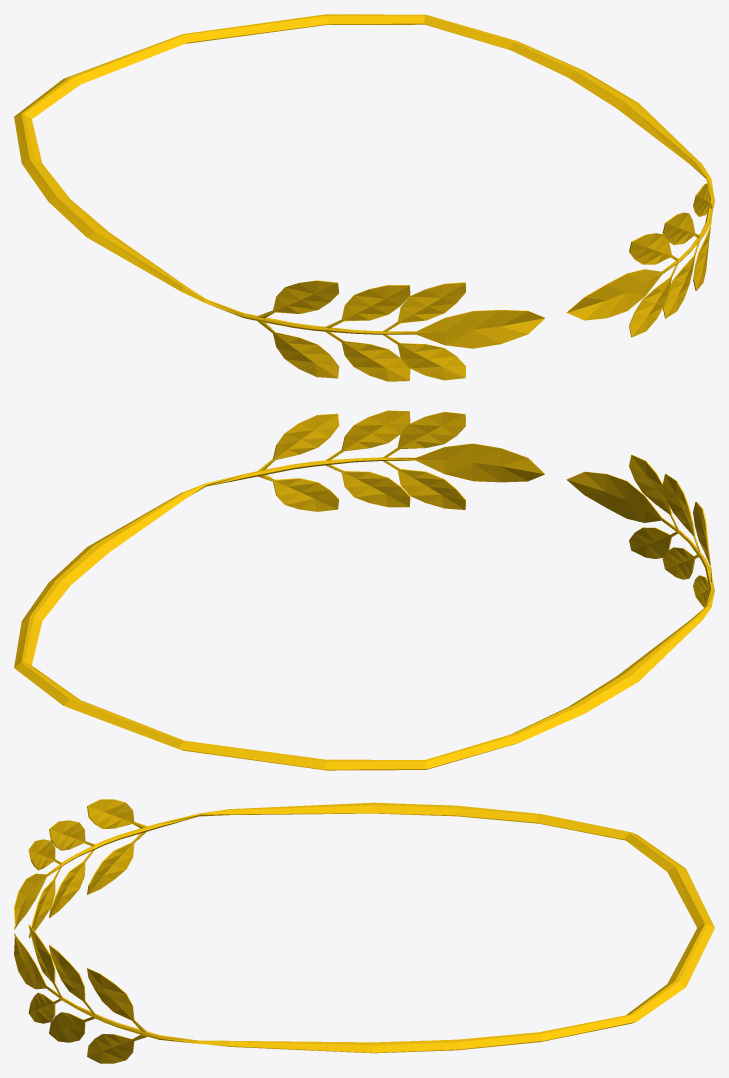
The model's file is F_Tiara_LaurelWreath.glb.
The picture shows the model from 3 angles, top to bottom: view 1: azimuth 30°, elevation 25°; view 2: azimuth 150°, elevation 25°; view 3: azimuth 270°, elevation 25°; orthographic projection. The views are drawn at different scales.
Visible parts, largest first — view 1: F_Tiara_LaurelWreath; view 2: F_Tiara_LaurelWreath; view 3: F_Tiara_LaurelWreath.
Boxes of the visible parts, left/top/right/bottom form: F_Tiara_LaurelWreath: left=14, top=14, right=714, bottom=381; F_Tiara_LaurelWreath: left=14, top=410, right=714, bottom=770; F_Tiara_LaurelWreath: left=14, top=799, right=714, bottom=1063.
Size of what is drawn, in the model's own units: 1.06 by 0.1766 by 1.25.
Materials: 1 (1 with a texture image).
